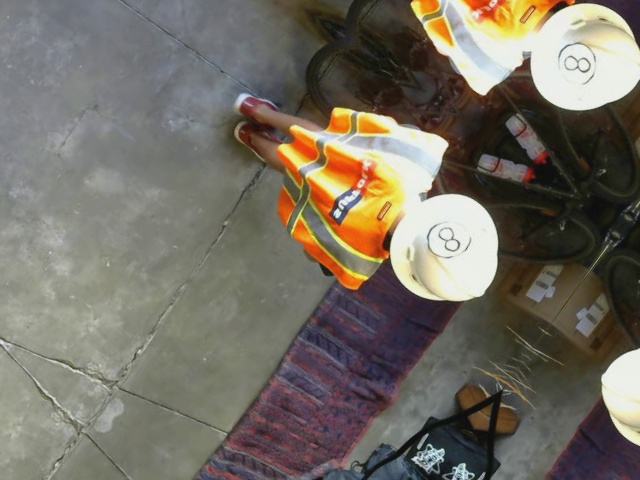eight: (417, 208, 480, 269)
